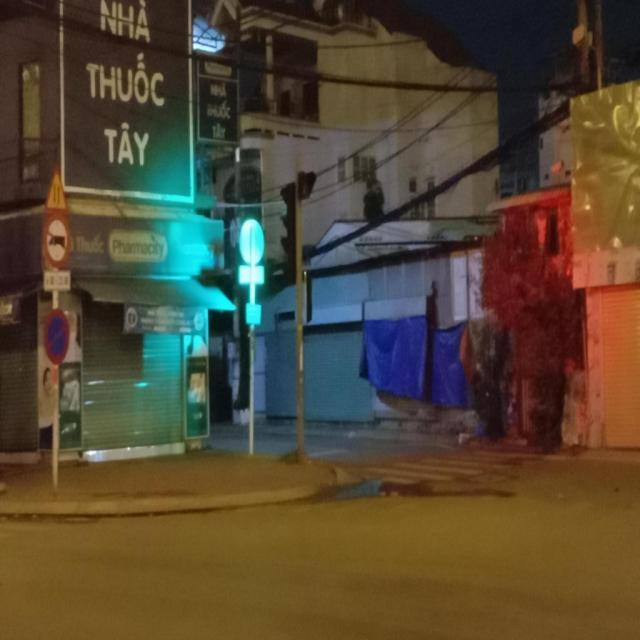106-cam-oto-tai: (42, 214, 72, 268)
131a-cam-do-xe: (41, 310, 70, 365)
